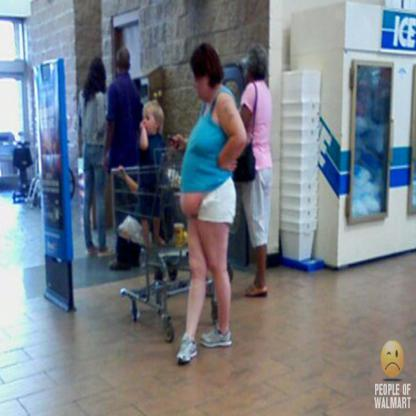face: (195, 62, 207, 101), (358, 85, 372, 115), (144, 109, 156, 135)
